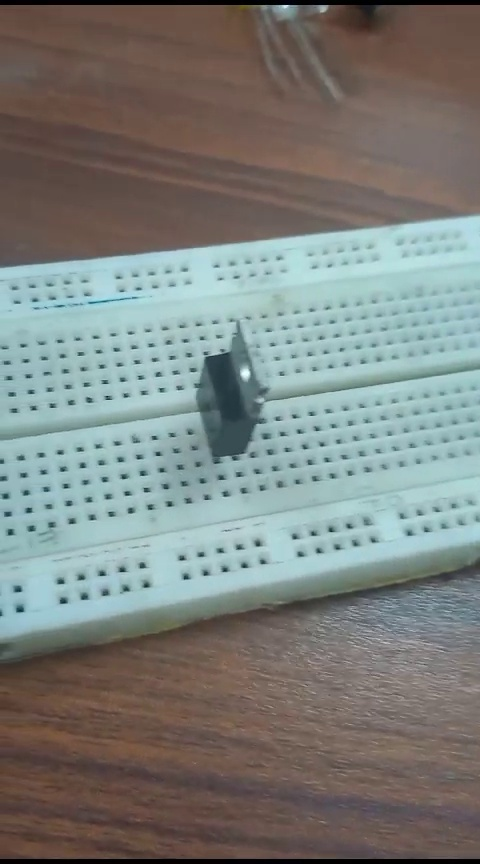voltage regulator: (173, 325, 273, 475)
